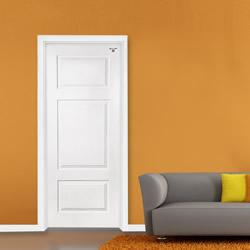door: (46, 44, 122, 226)
